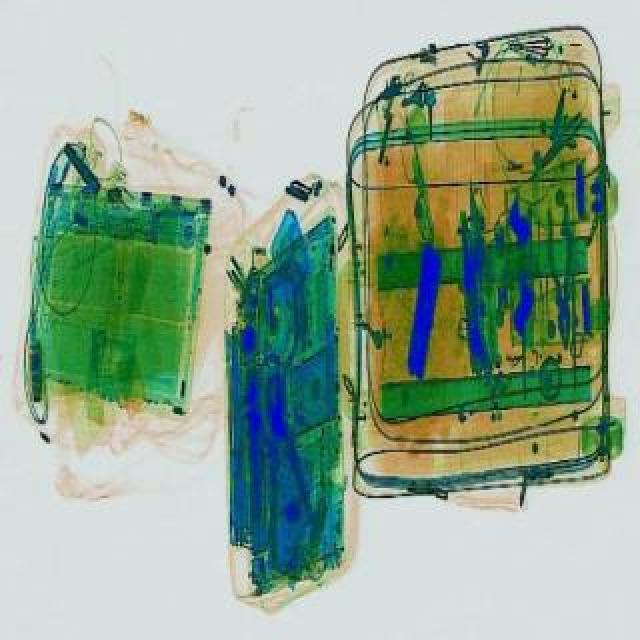wrench: (544, 202, 580, 348)
